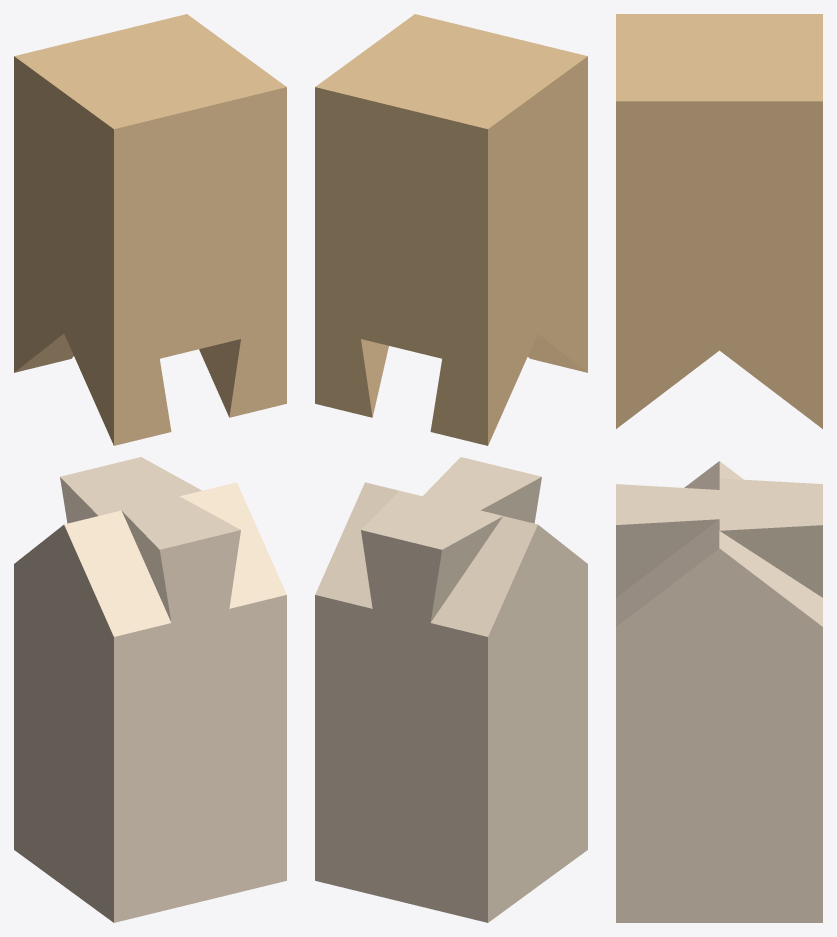
3 views of the same model, side by side, from view 1: azimuth 30°, elevation 25°; view 2: azimuth 150°, elevation 25°; view 3: azimuth 270°, elevation 25° (orthographic). The views are drawn at different scales.
Bounding box in the file's own units: 0.18 × 0.7894 × 0.18.
